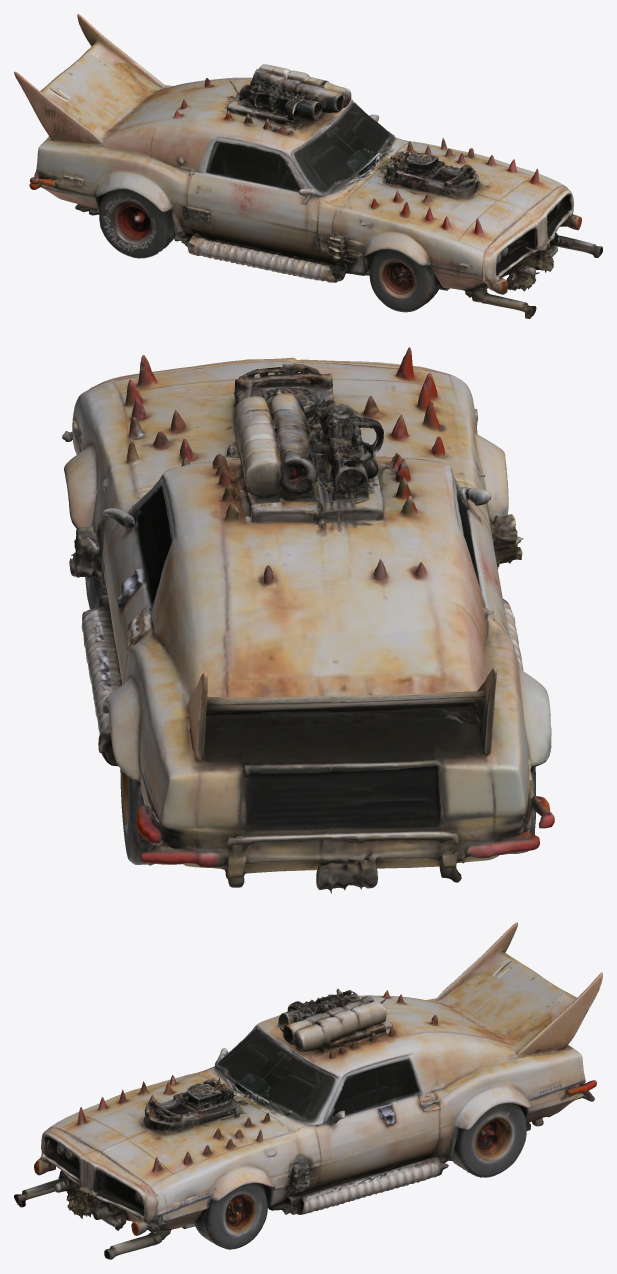
File: widowmaker_-_death_race_2000.glb
3 renders of one model, top to bottom at view 1: azimuth 30°, elevation 25°; view 2: azimuth 150°, elevation 25°; view 3: azimuth 270°, elevation 25°, orthographic. The views are drawn at different scales.
Visible parts, largest first — view 1: Object_4, Object_5, Object_6; view 2: Object_4, Object_5, Object_6; view 3: Object_4, Object_5, Object_6.
Part boxes in pixels (left/top/right/bottom): Object_4: left=14, top=14, right=602, bottom=311; Object_5: left=14, top=14, right=602, bottom=318; Object_6: left=23, top=17, right=591, bottom=309; Object_4: left=65, top=358, right=551, bottom=884; Object_5: left=62, top=347, right=554, bottom=893; Object_6: left=75, top=362, right=542, bottom=872; Object_4: left=35, top=922, right=602, bottom=1259; Object_5: left=14, top=922, right=602, bottom=1257; Object_6: left=16, top=928, right=568, bottom=1251.
Bounding box in the file's own units: 3.17 × 1.25 × 3.9.
Materials: 1 (1 with a texture image).
